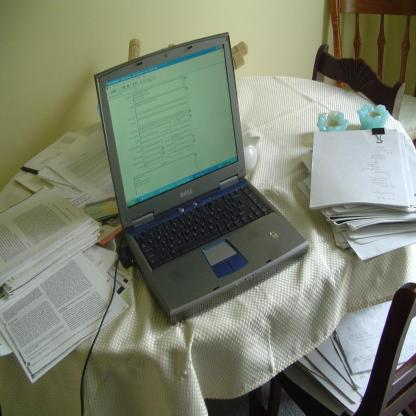board: (95, 32, 308, 325)
